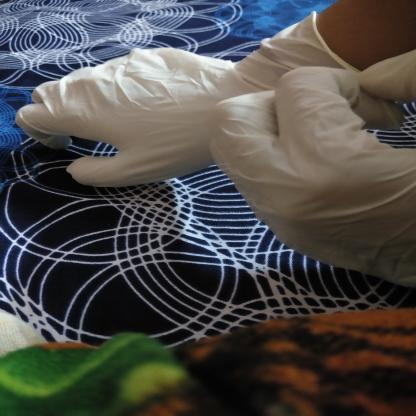gloved_hand: (10, 9, 400, 190), (205, 46, 416, 294)
